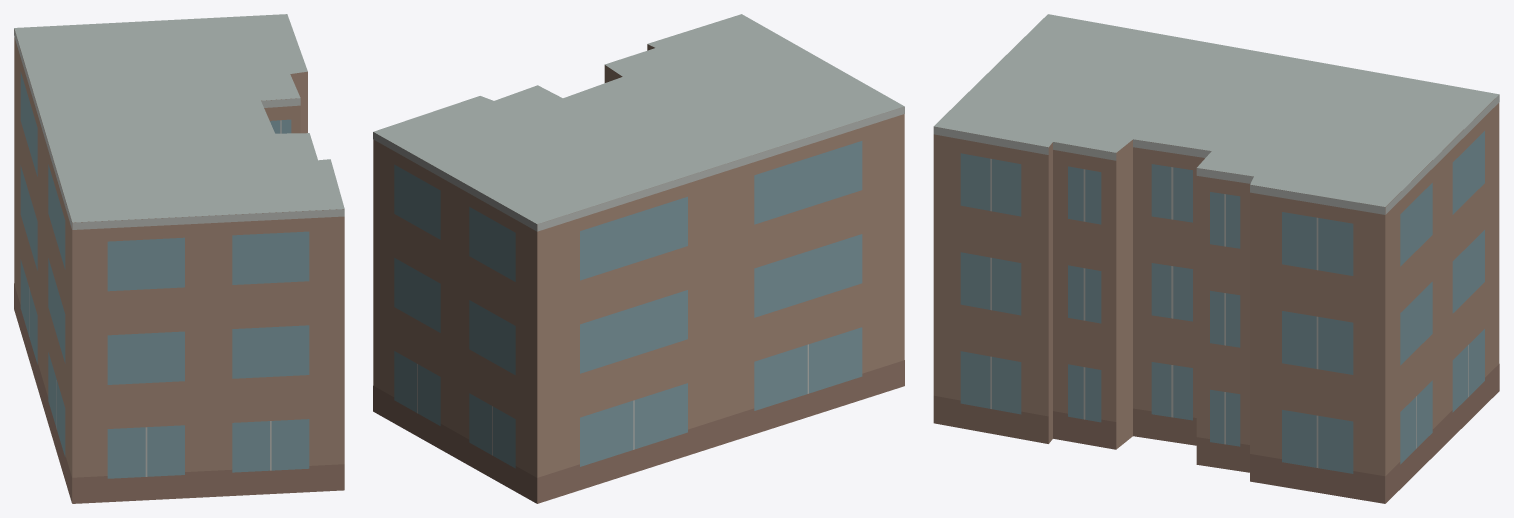
File: survey-upis-32530917.glb
The picture shows the model from 3 angles, left to right: view 1: azimuth 30°, elevation 25°; view 2: azimuth 150°, elevation 25°; view 3: azimuth 270°, elevation 25°; orthographic projection. The views are drawn at different scales.
Parts seen in each view (by area): view 1: survey-upis-32530917.tmp; view 2: survey-upis-32530917.tmp; view 3: survey-upis-32530917.tmp.
Part boxes in pixels (left/top/right/bottom): survey-upis-32530917.tmp: left=14, top=14, right=344, bottom=503; survey-upis-32530917.tmp: left=373, top=14, right=904, bottom=503; survey-upis-32530917.tmp: left=933, top=14, right=1499, bottom=503.
Size of the model in its own units: 12.77 by 9.15 by 15.82.
